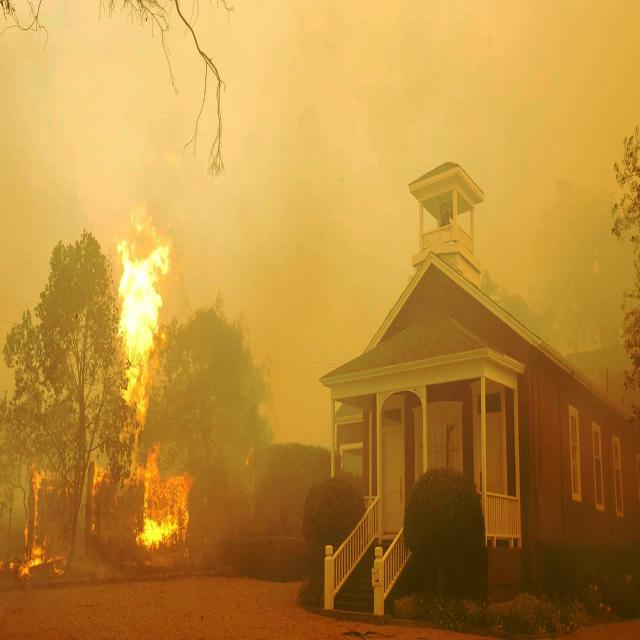api: (109, 208, 195, 561), (11, 458, 67, 578)
